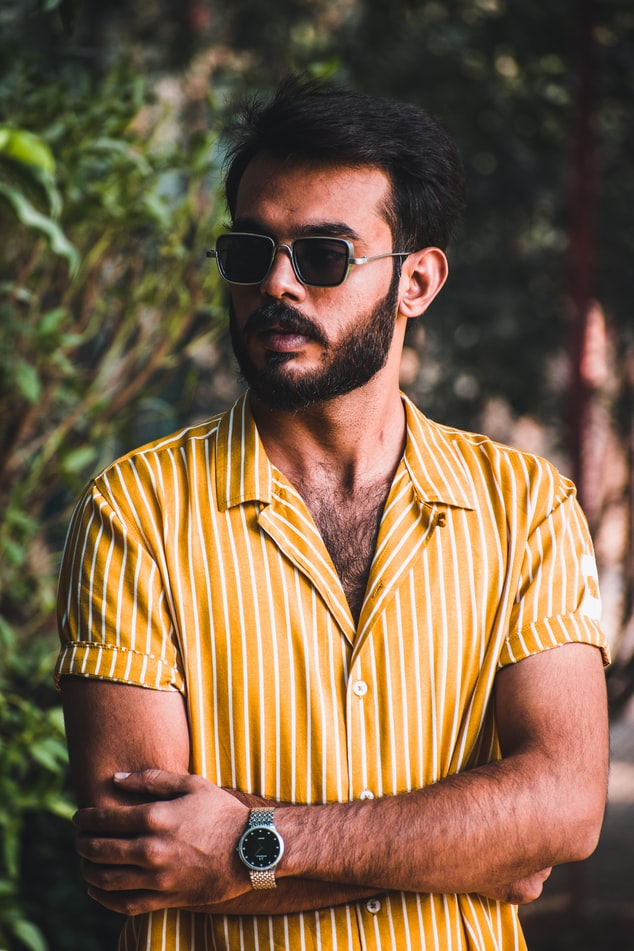beard: (221, 302, 398, 405)
glasses: (203, 227, 366, 295)
striped: (62, 408, 610, 939)
